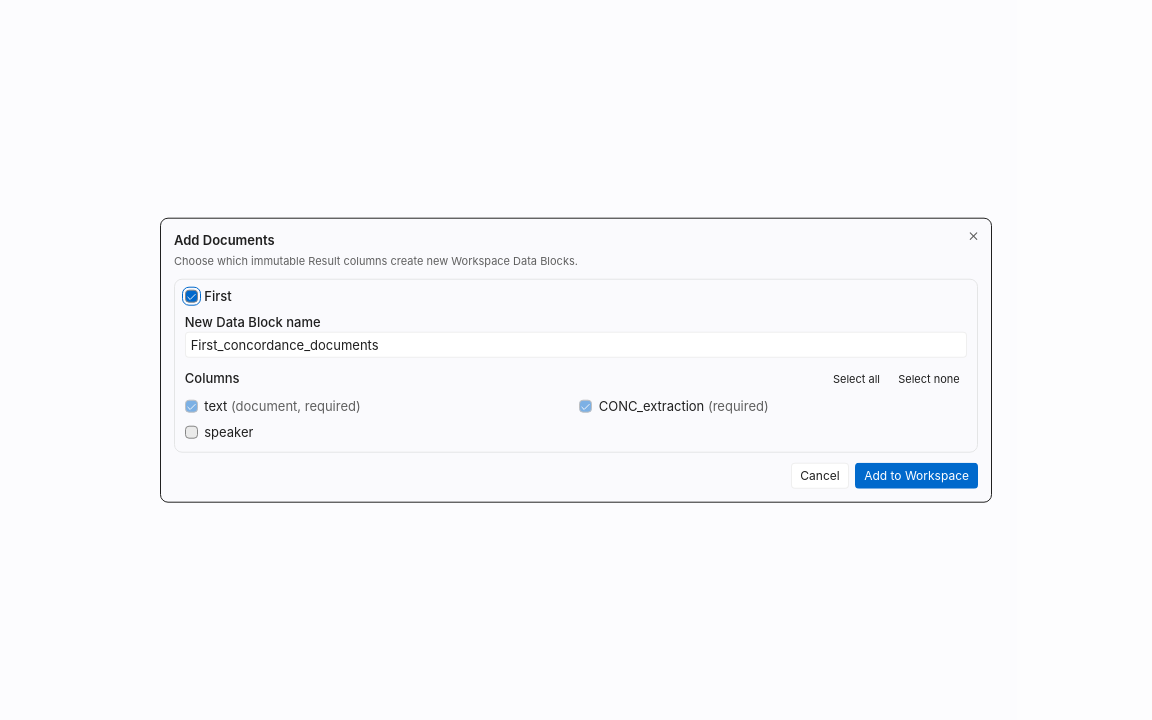
Test case: ResultAddToWorkspaceDialog › preserves a source selection while that source is excluded
Click the checkbox named "speaker" next to "speaker": click(191, 432) [185,426,198,439]
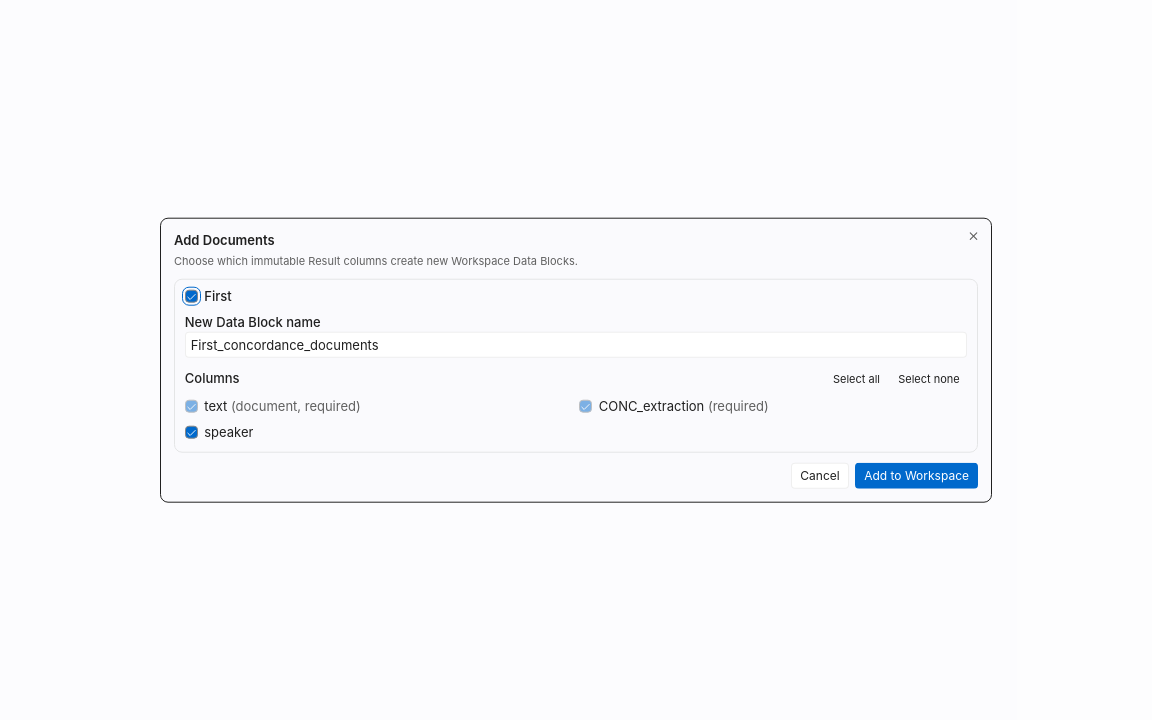
Click the checkbox named "First" next to "First": click(191, 296) [185,290,198,303]
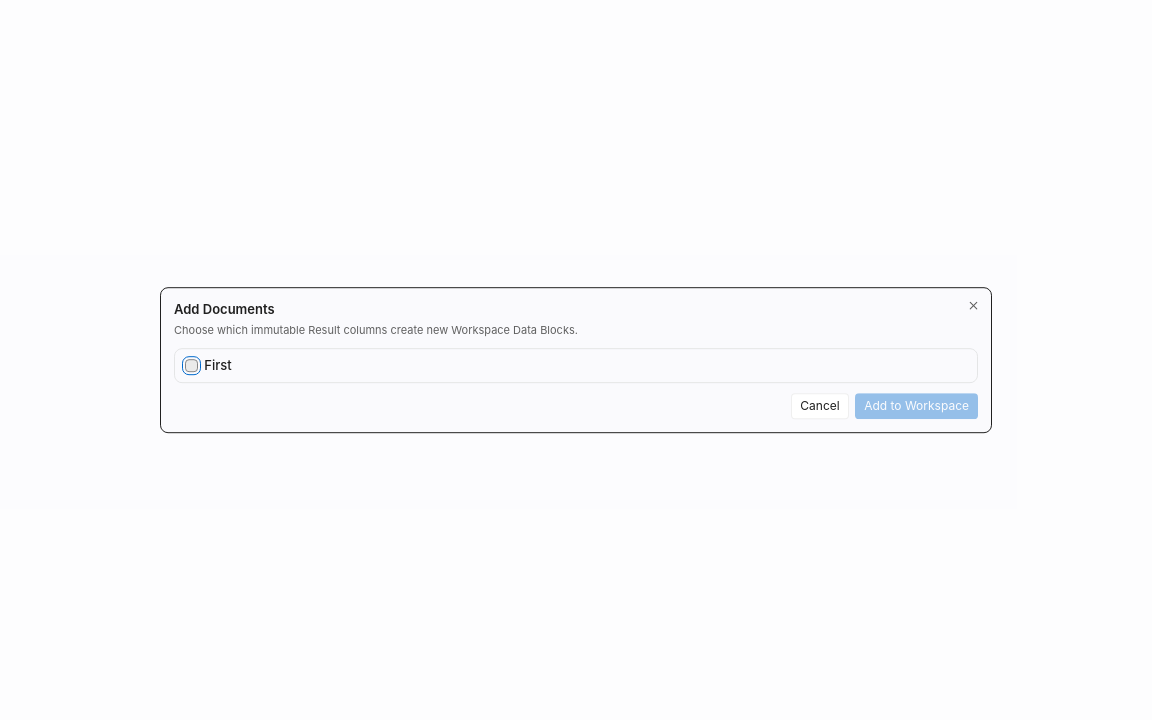
Click the checkbox named "First": click(191, 366) [185,359,198,372]
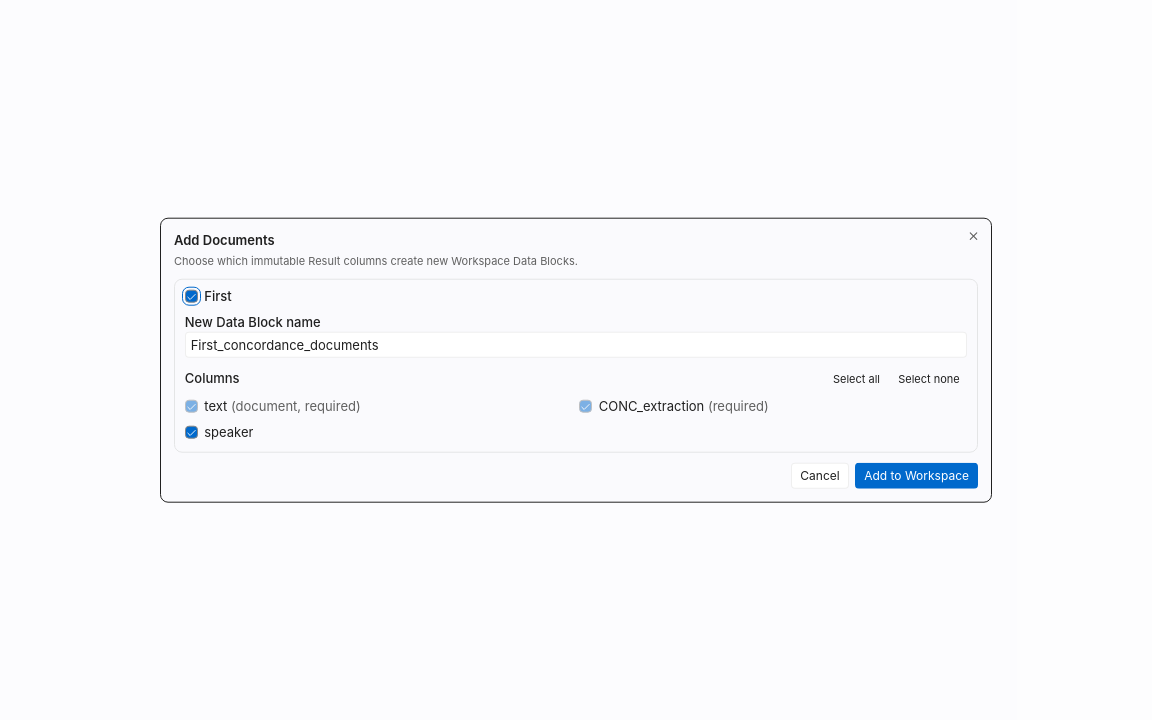
Expected: the checkbox named "speaker" next to "speaker" is checked, [185,426,198,439]
